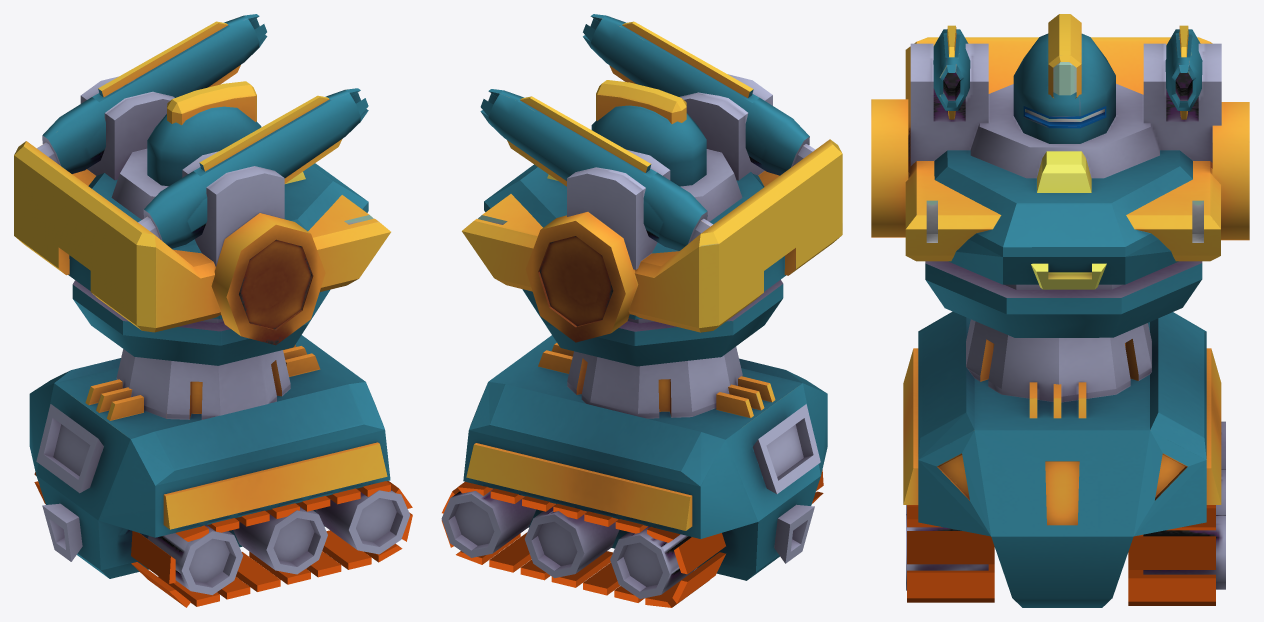
Rendered from Player_Idle17.obj.
The picture shows the model from 3 angles, left to right: view 1: azimuth 30°, elevation 25°; view 2: azimuth 150°, elevation 25°; view 3: azimuth 270°, elevation 25°; orthographic projection. The views are drawn at different scales.
Visible parts, largest first — view 1: Object004, Object008, Object014, Box009, Box017; view 2: Object004, Object008, Object014, Box009, Box016; view 3: Object004, Object008, Box016, Box017, Object014, Box009.
Part boxes in pixels (left/top/right/bottom): Object004: left=14, top=76, right=390, bottom=365; Object008: left=29, top=335, right=390, bottom=578; Object014: left=37, top=14, right=368, bottom=248; Box009: left=147, top=490, right=409, bottom=594; Box017: left=131, top=481, right=412, bottom=607; Object004: left=462, top=74, right=842, bottom=366; Object008: left=463, top=335, right=827, bottom=580; Object014: left=480, top=14, right=815, bottom=250; Box009: left=441, top=489, right=697, bottom=598; Box016: left=441, top=481, right=725, bottom=607; Object004: left=871, top=14, right=1249, bottom=337; Object008: left=903, top=311, right=1221, bottom=607; Box016: left=1128, top=505, right=1215, bottom=605; Box017: left=907, top=505, right=994, bottom=602; Object014: left=933, top=25, right=1202, bottom=119; Box009: left=906, top=421, right=1225, bottom=590.
Size of the model in its own units: 54.79 by 81.04 by 52.49.
2 materials, 1 textured.
